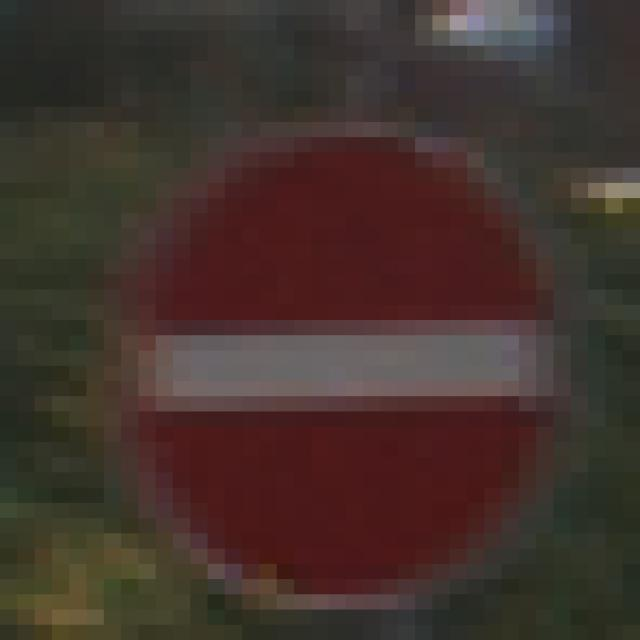No Entry: (105, 77, 554, 565)
